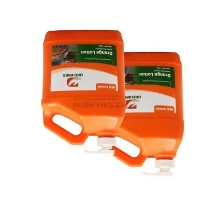book: (39, 27, 128, 158), (100, 50, 186, 179)
